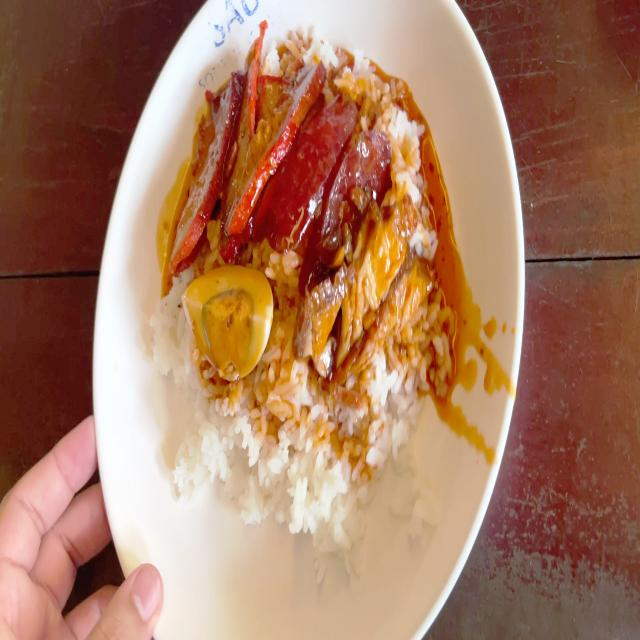boiled_egg: (184, 268, 274, 376)
chainese_sausage: (265, 101, 388, 253)
crispy_pork: (313, 207, 433, 378)
red_pork: (176, 60, 265, 236), (249, 53, 322, 149)
red_pork_and_crispy_pork: (160, 37, 434, 527)
rice: (179, 384, 393, 528)
